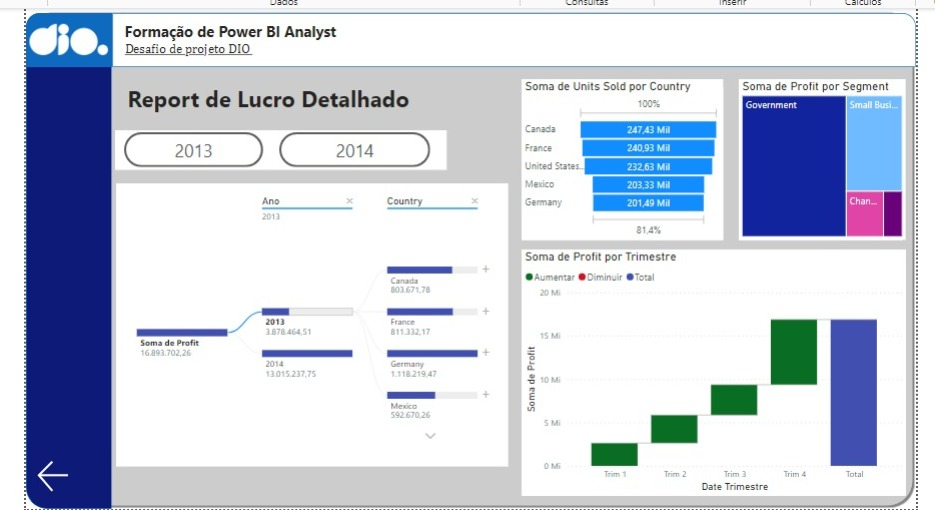

Layout of this report page (visuals, bound fields, positions):
{"tool":"powerbi","page":{"name":"lucro ","canvas":[1280,720],"ordinal":1},"visuals":[{"type":"shape","box":[0,0,1280,720],"z":0},{"type":"actionButton","title":"2013","box":[141.5,178.6,200,50],"z":0,"group":"g1"},{"type":"actionButton","title":"2014","box":[364.3,178.6,217.1,50],"z":1000,"group":"g1"},{"type":"shape","box":[0,34.2,123.4,685.3],"z":1000},{"type":"shape","box":[123.8,7.2,1156.3,77.8],"z":2000},{"type":"decompositionTreeVisual","title":"Árvore hierárquica2013","fields":{"ExplainBy":["financials.Date.Variation.Hierarquia de datas.Ano","financials.Country","financials.Date.Variation.Hierarquia de datas.Trimestre","financials.Date.Variation.Hierarquia de datas.Mês","financials.Date.Variation.Hierarquia de datas.Dia"],"Analyze":["Sum(financials.Profit)"]},"box":[130,251.5,564.3,407.1],"z":2000,"group":"g1"},{"type":"textbox","box":[136.8,14.6,335.9,70.4],"z":3000},{"type":"textbox","box":[141.4,102.9,582.9,52.9],"z":4000},{"type":"shape","box":[124.3,251.4,570,407.1],"z":5000},{"type":"shape","box":[128.6,175.7,477.1,57.1],"z":6000},{"type":"shape","box":[712.9,380,548.6,321.4],"z":7000},{"type":"shape","box":[1025.7,114.3,235.7,220],"z":8000},{"type":"shape","box":[0,7.2,123.8,77.8],"z":9000},{"type":"image","title":"dio","box":[0,5.7,122.9,78.6],"z":10000},{"type":"actionButton","box":[11.4,645.7,100,55.7],"z":11000},{"type":"shape","box":[712.9,114.3,290,220],"z":12000},{"type":"waterfallChart","fields":{"Category":["financials.Date.Variation.Hierarquia de datas.Trimestre"],"Y":["Sum(financials.Profit)"]},"box":[712.9,347.1,552.9,354.3],"z":13000},{"type":"treemap","fields":{"Values":["Sum(financials.Profit)"],"Group":["financials.Segment"]},"box":[1025.7,102.9,240,231.4],"z":14000},{"type":"funnel","fields":{"Category":["financials.Country"],"Y":["Sum(financials.Units Sold)"]},"box":[712.9,102.9,290,231.4],"z":15000},{"type":"group","id":"g1","title":"Arvore h ","box":[128.6,178.6,565.7,522.9],"z":16000}]}

Visuals, with their boxes on the page's 1280x720 design canvas (x1, y1, x2, y2). These are canvas units, not pixel positions in the 935x510 screenshot, which may show the page scaled, cropped or inside an application window:
shape: crop(0, 0, 1280, 720)
"2013" actionButton: crop(142, 179, 342, 229)
"2014" actionButton: crop(364, 179, 581, 229)
shape: crop(0, 34, 123, 720)
shape: crop(124, 7, 1280, 85)
"Árvore hierárquica2013" decompositionTreeVisual: crop(130, 252, 694, 659)
textbox: crop(137, 15, 473, 85)
textbox: crop(141, 103, 724, 156)
shape: crop(124, 251, 694, 658)
shape: crop(129, 176, 606, 233)
shape: crop(713, 380, 1262, 701)
shape: crop(1026, 114, 1261, 334)
shape: crop(0, 7, 124, 85)
"dio" image: crop(0, 6, 123, 84)
actionButton: crop(11, 646, 111, 701)
shape: crop(713, 114, 1003, 334)
waterfallChart - financials.Date.Variation.Hierarquia de datas.Trimestre x Sum(financials.Profit): crop(713, 347, 1266, 701)
treemap - Sum(financials.Profit) x financials.Segment: crop(1026, 103, 1266, 334)
funnel - financials.Country x Sum(financials.Units Sold): crop(713, 103, 1003, 334)
"Arvore h " group: crop(129, 179, 694, 702)
